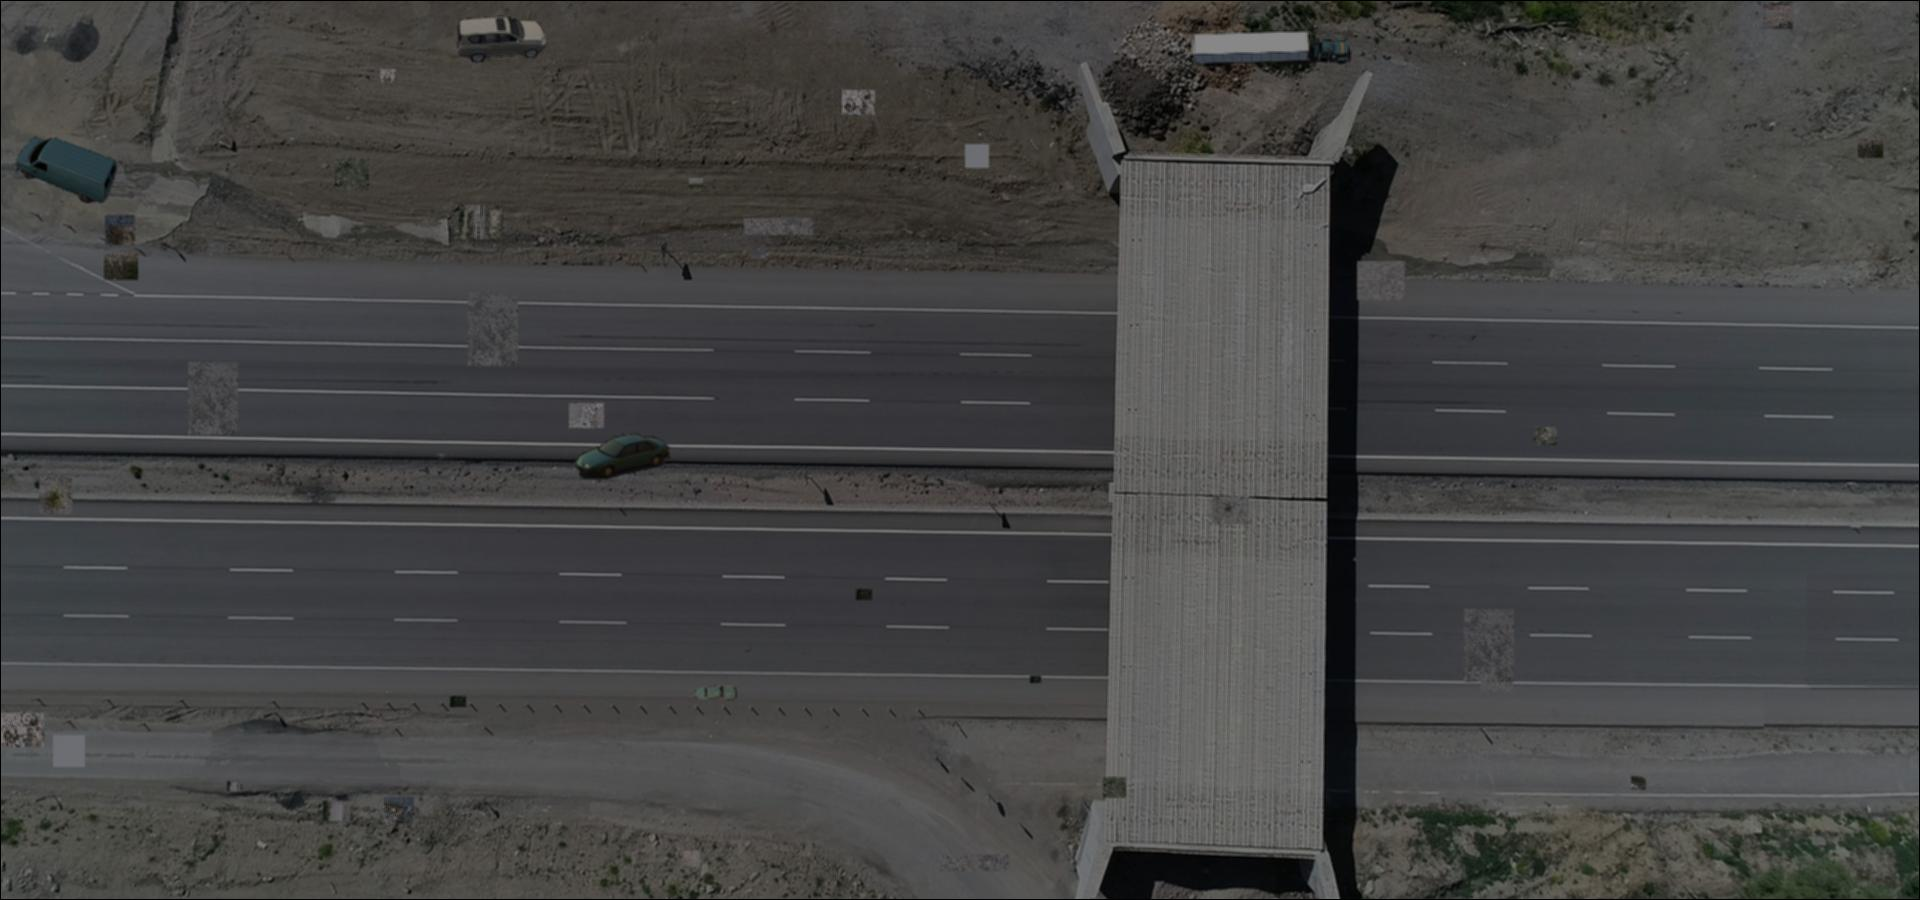arac: (16, 136, 118, 203), (1189, 31, 1353, 69), (576, 430, 670, 479), (454, 15, 550, 62), (693, 684, 738, 700)
